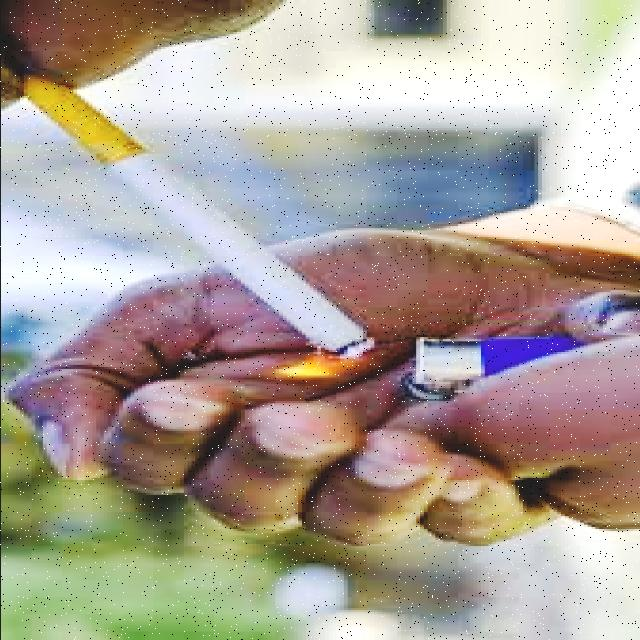api: (264, 338, 386, 398)
